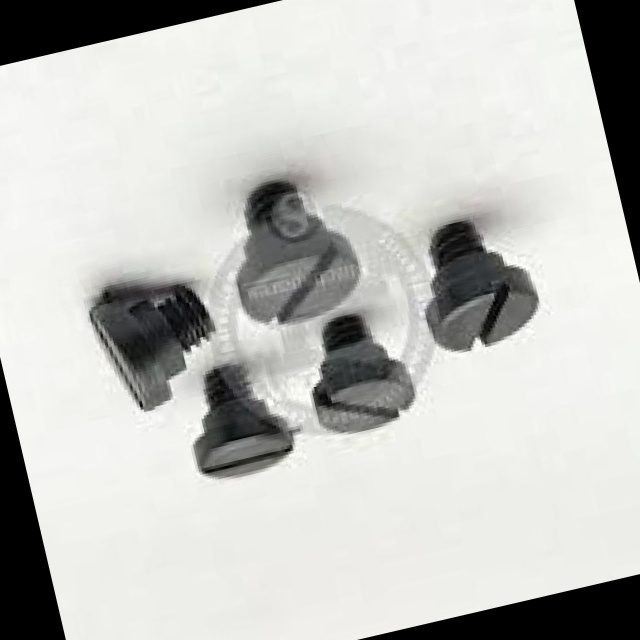duz: (231, 232, 371, 338), (420, 268, 549, 363), (306, 355, 422, 447), (190, 411, 298, 491)
